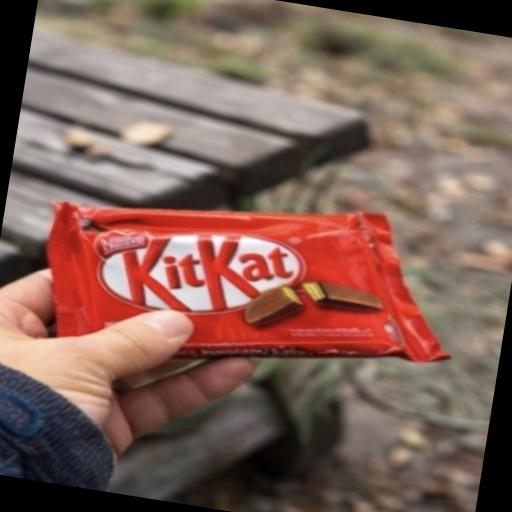kitkat: (6, 163, 499, 417)
